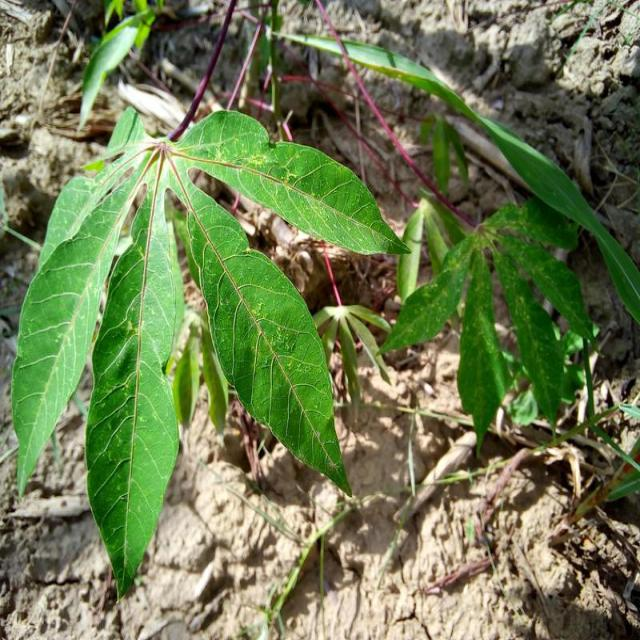cassava leaf: (9, 102, 410, 600), (83, 159, 184, 602)
